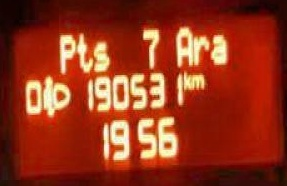0: (21, 75, 42, 115), (110, 71, 129, 110)
1: (98, 118, 109, 159), (83, 75, 93, 110), (174, 70, 181, 105)
3: (147, 69, 166, 108)
5: (133, 113, 156, 158), (129, 70, 146, 110)
6: (156, 113, 176, 158)
7: (139, 23, 159, 68)
9: (109, 115, 130, 160), (94, 73, 110, 111)
X: (56, 29, 75, 73), (175, 23, 192, 68), (75, 30, 91, 71), (191, 31, 210, 65), (92, 38, 110, 71), (210, 31, 227, 65), (190, 69, 204, 88), (181, 68, 190, 88)
